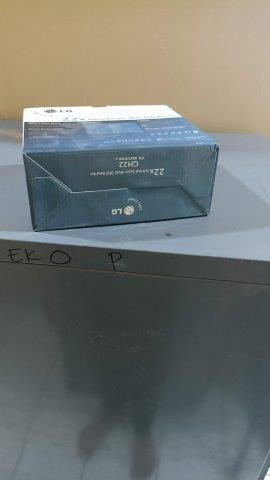kardus: (23, 105, 218, 231)
